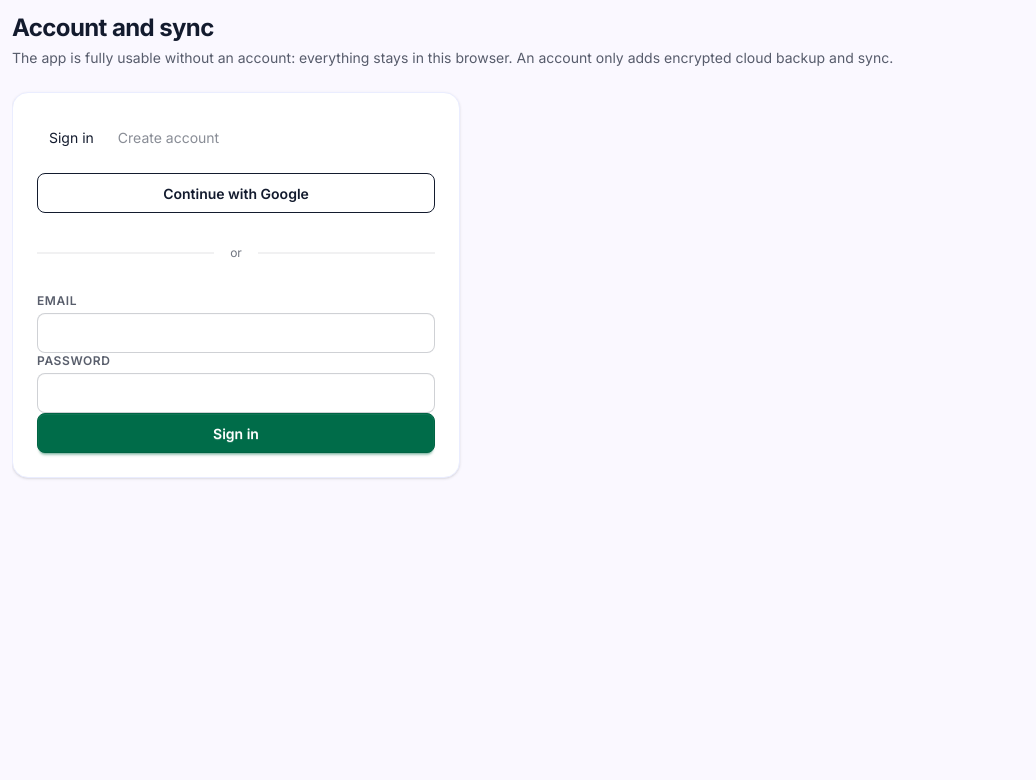
Test: AccountPage › shows a friendly message when the Google popup is closed
What coordinates should you click on to do the following:
click the button "Continue with Google"
I would click on:
 (236, 193)
Its box is [37,173,435,213].
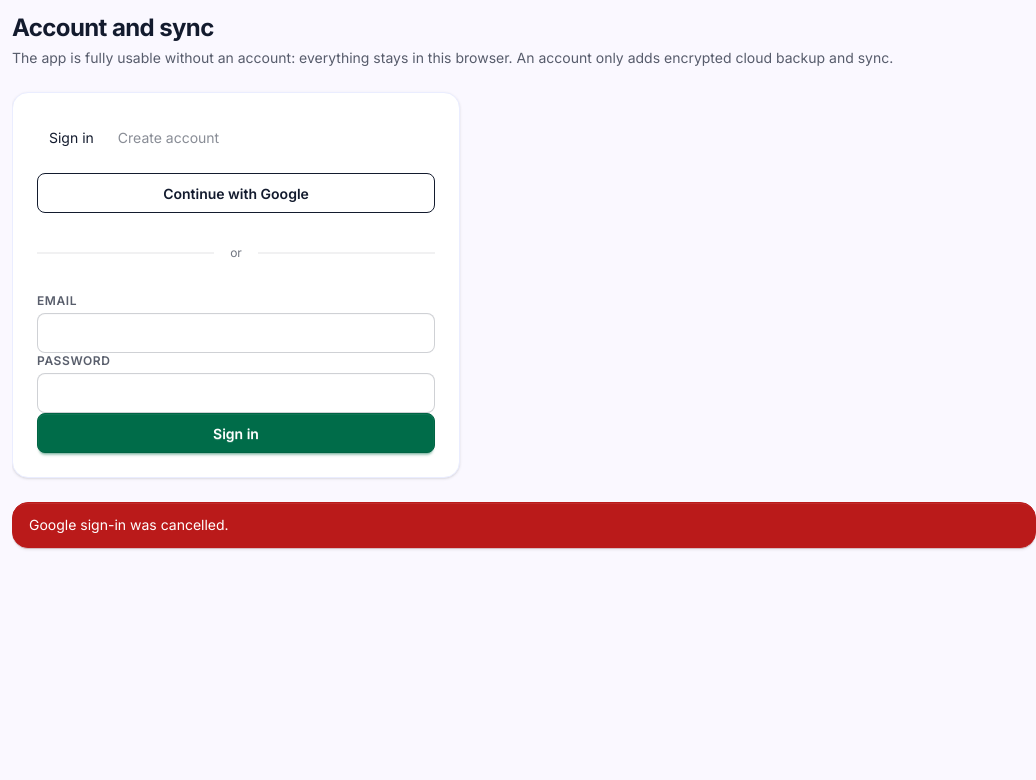
Check: the message shows "cancelled", box [29,516,229,533]
